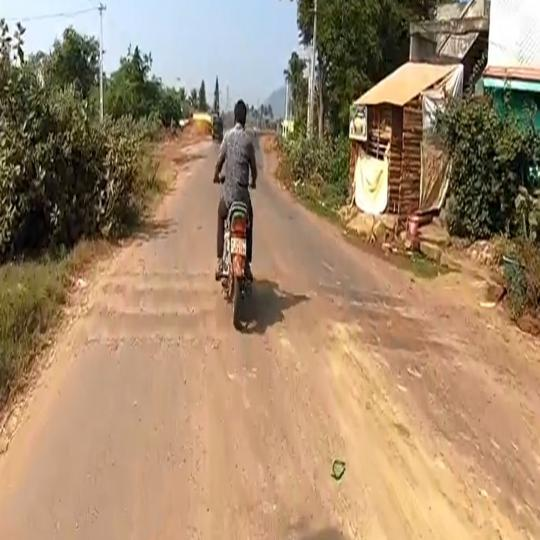Speed Bump: (250, 323, 437, 352), (84, 302, 230, 327), (253, 282, 409, 304), (250, 306, 428, 323), (95, 283, 217, 300), (101, 266, 214, 280)
